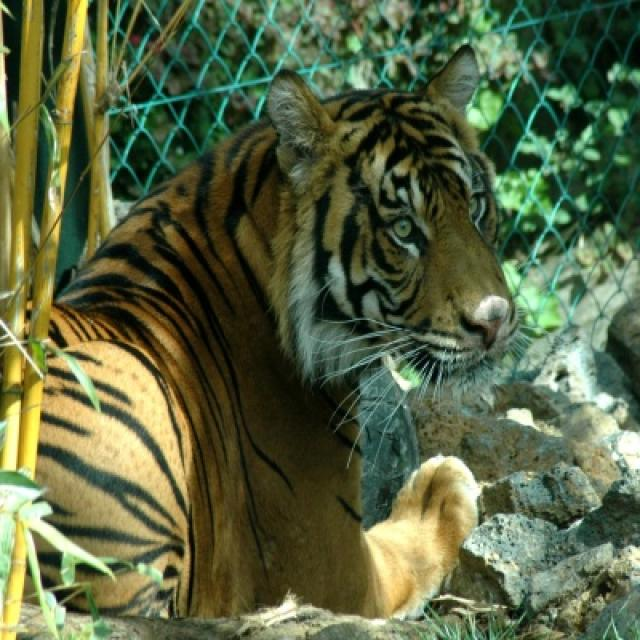Tiger: (38, 46, 518, 614)
